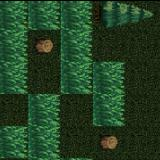Obstacle: (29, 30, 60, 61), (94, 125, 124, 156)
Slow: (61, 0, 92, 93), (0, 0, 28, 93), (28, 93, 60, 160), (92, 61, 124, 126), (28, 0, 61, 30), (92, 0, 124, 29), (0, 125, 27, 158)
